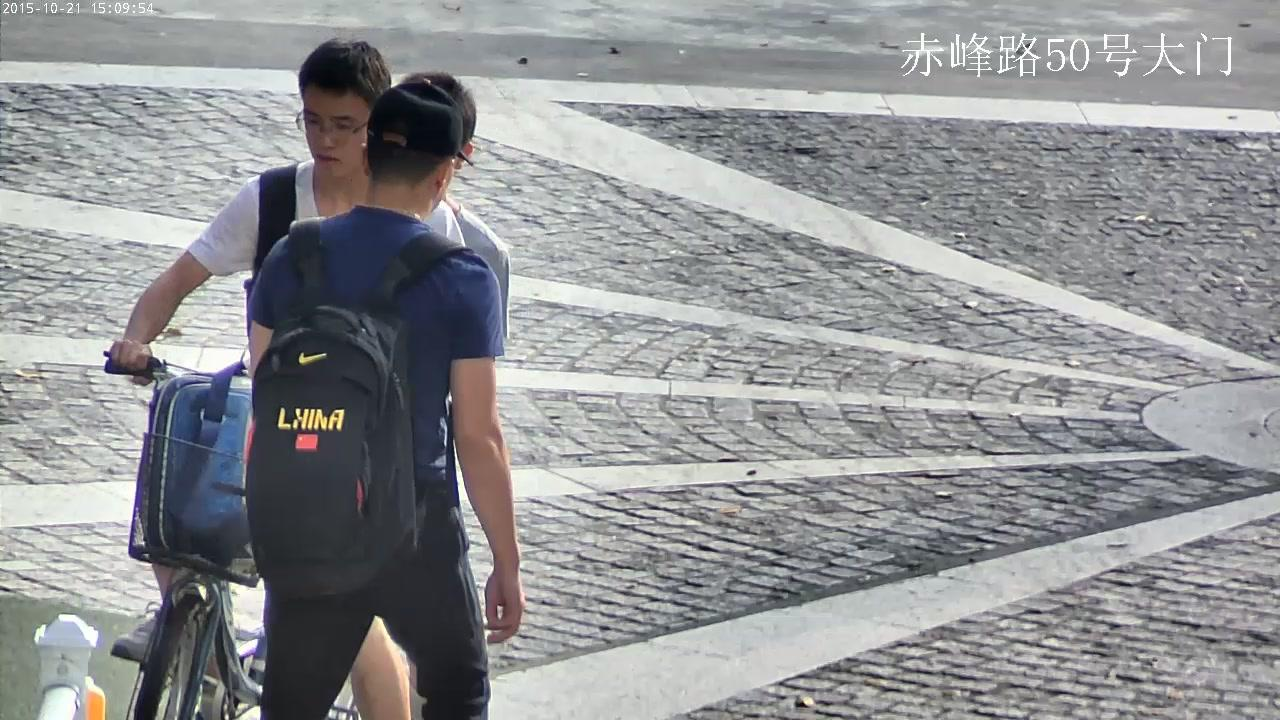person: (107, 36, 506, 718), (103, 39, 463, 720), (244, 71, 526, 720)
